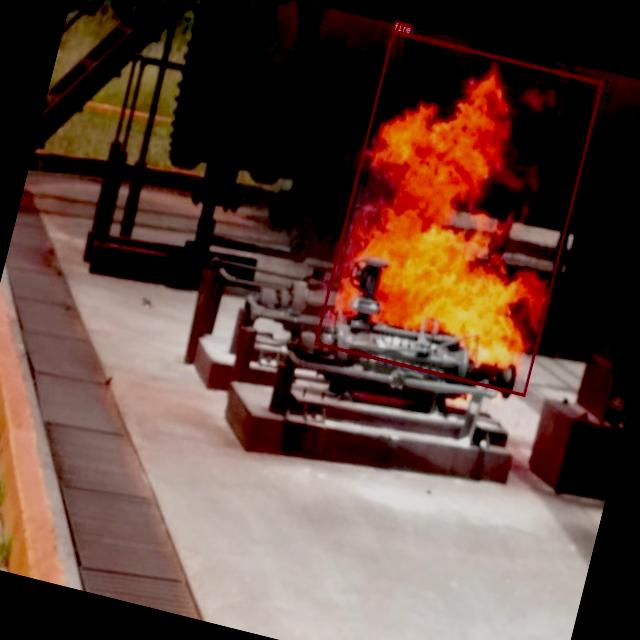fire: (314, 28, 602, 396)
